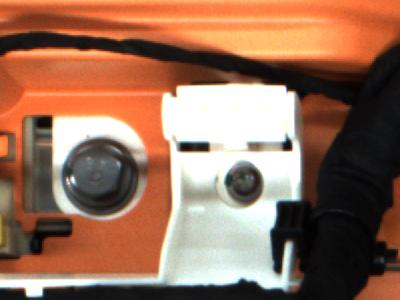nut_b: (60, 132, 139, 223)
